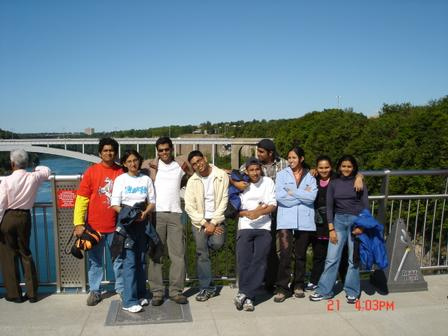person: (73, 138, 127, 307), (310, 155, 370, 305), (1, 149, 52, 304), (112, 151, 158, 313), (146, 137, 188, 309), (183, 149, 230, 301), (273, 148, 318, 301), (233, 160, 276, 311), (309, 155, 334, 292), (239, 140, 291, 177)
